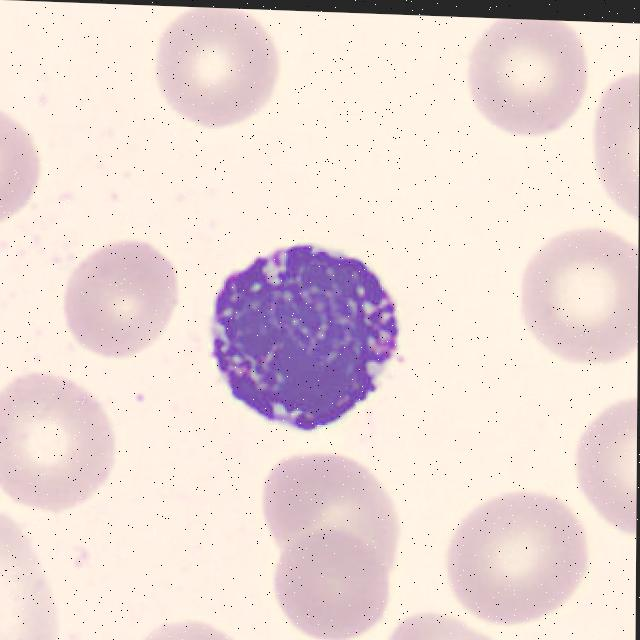basophil: (194, 211, 408, 437)
rbc: (249, 439, 414, 568), (453, 17, 606, 143), (445, 488, 585, 624), (0, 363, 125, 515), (136, 5, 290, 128), (45, 222, 187, 354), (513, 224, 638, 364), (264, 522, 390, 640), (0, 510, 83, 640), (572, 381, 637, 546), (588, 65, 640, 221), (0, 93, 52, 225), (112, 608, 271, 640), (379, 609, 540, 640), (549, 634, 635, 640)
